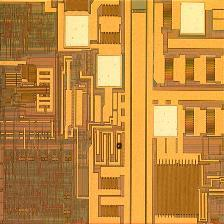PIQ PARTICLE: (116, 143, 124, 151)
